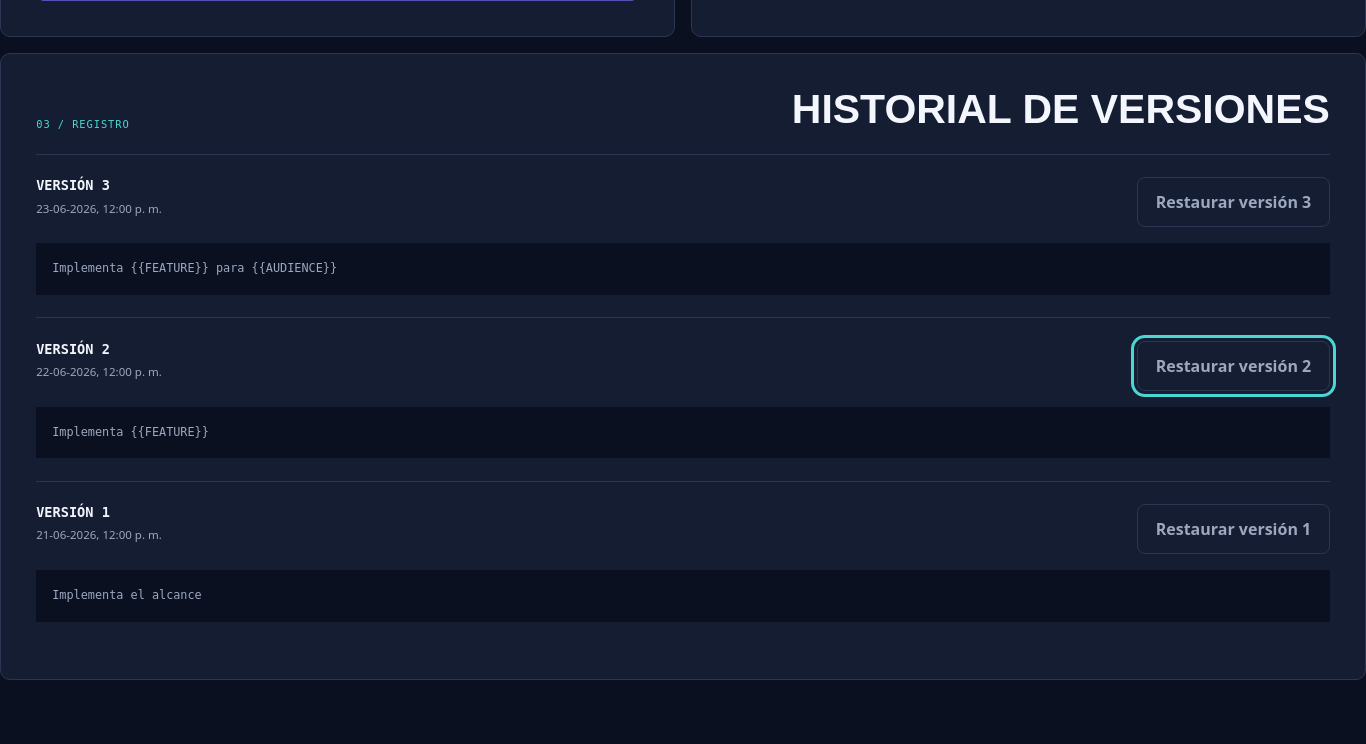
Test case: TemplateEditor › Escape cancela y devuelve el foco al botón que abrió el modal
The image size is (1366, 744).
(page scrolled)
Step 1. Click the button "Restaurar versión 2" → click(1233, 366), box [1137,341,1330,391]
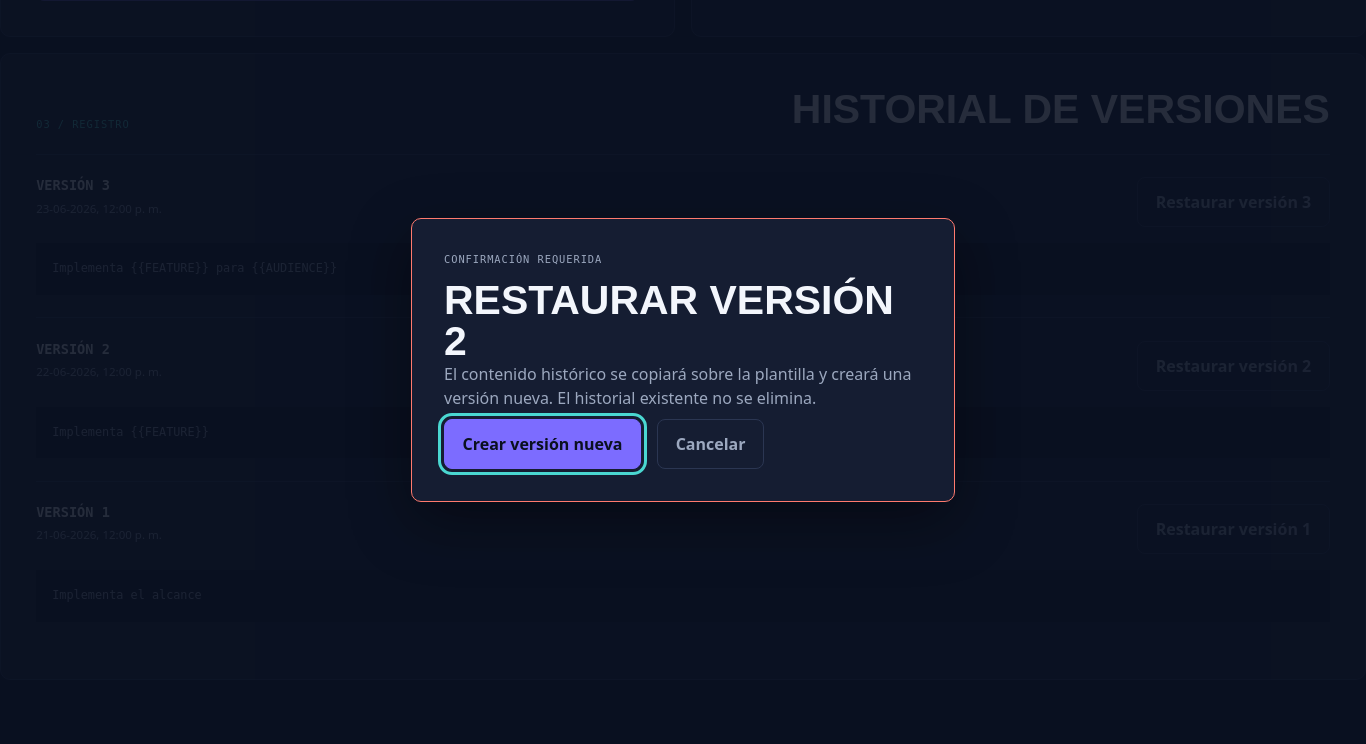
Step 2. Press Escape in the dialog "Restaurar versión 2", box [411,218,955,502]
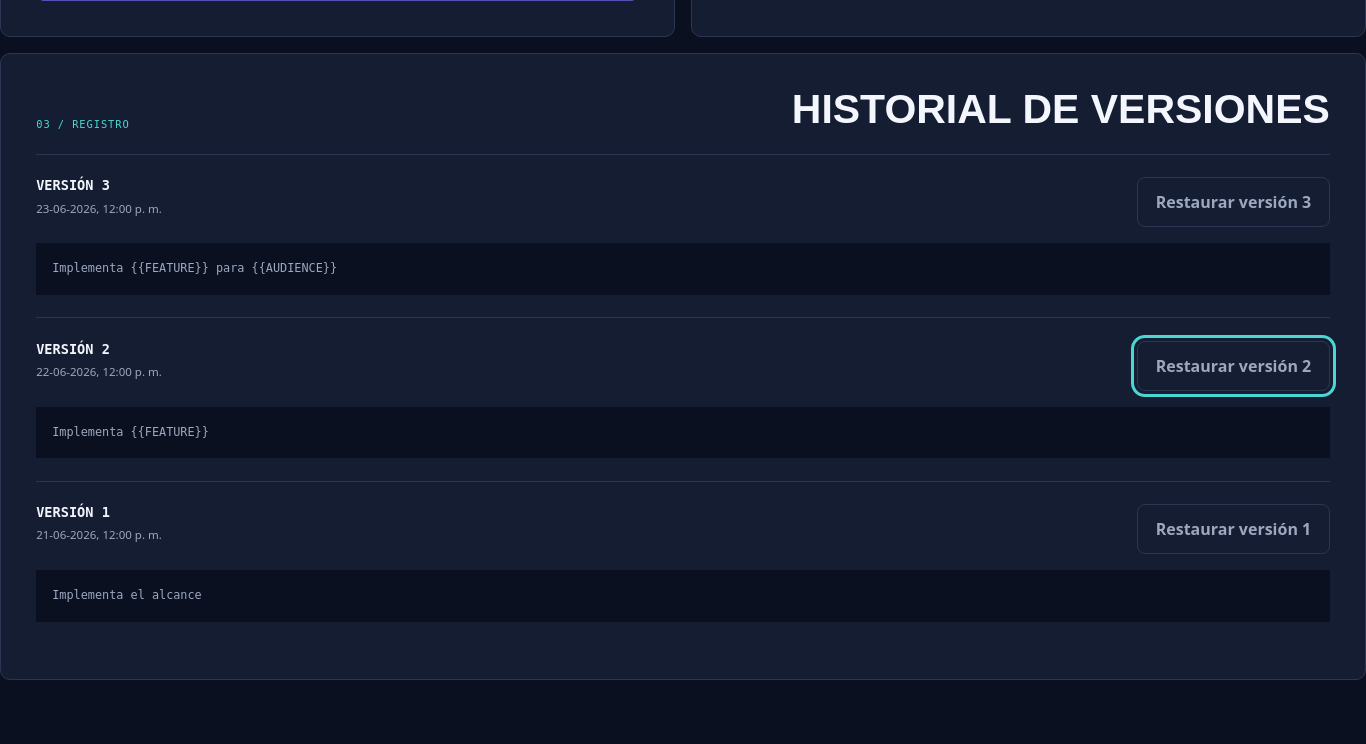
Now the dialog is gone
